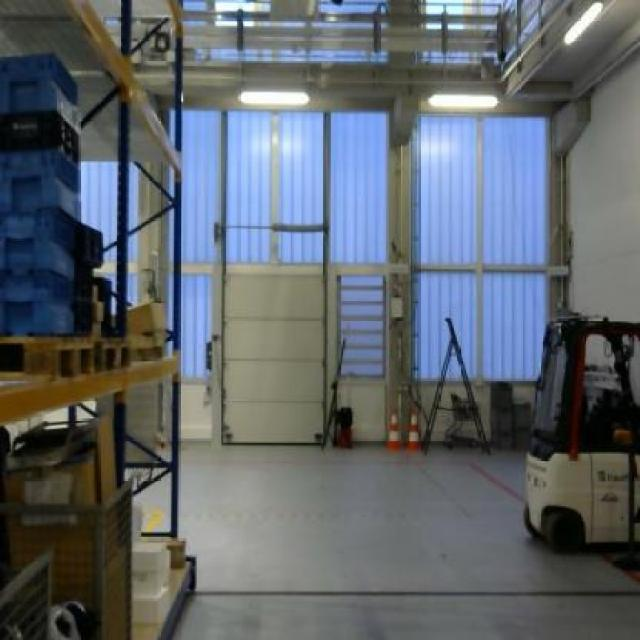box: (122, 295, 166, 333)
